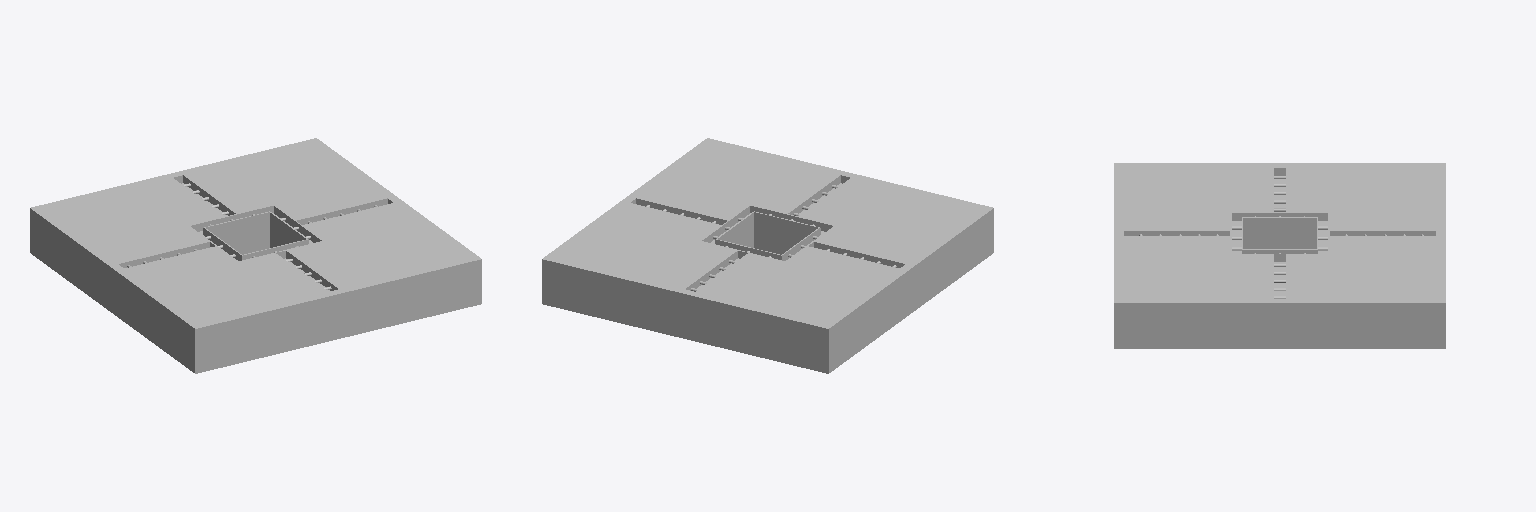
File: WallHyper.obj
The picture shows the model from 3 angles: view 1: azimuth 30°, elevation 25°; view 2: azimuth 150°, elevation 25°; view 3: azimuth 270°, elevation 25°; orthographic projection.
Parts seen in each view (by area): view 1: Cube.001_Cube.002; view 2: Cube.001_Cube.002; view 3: Cube.001_Cube.002.
Part boxes in pixels (bbox=[...]): Cube.001_Cube.002: bbox=[30, 138, 481, 373]; Cube.001_Cube.002: bbox=[542, 138, 993, 373]; Cube.001_Cube.002: bbox=[1114, 163, 1445, 348].
Size of the model in its own units: 2 by 0.3 by 2.